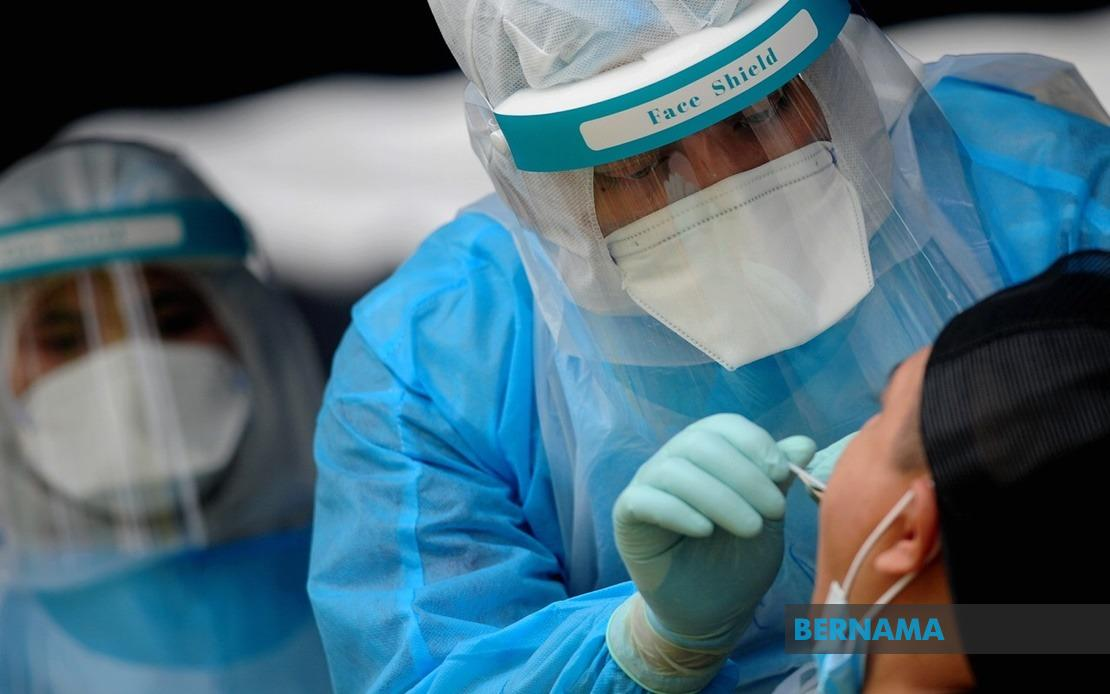Gloves: (610, 406, 805, 672)
with_mask: (579, 103, 882, 359), (20, 279, 244, 527)
